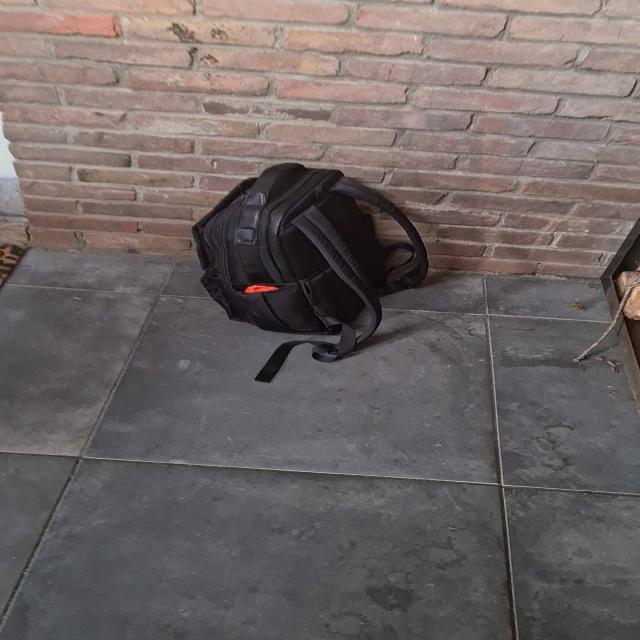backpack: (181, 158, 434, 363)
